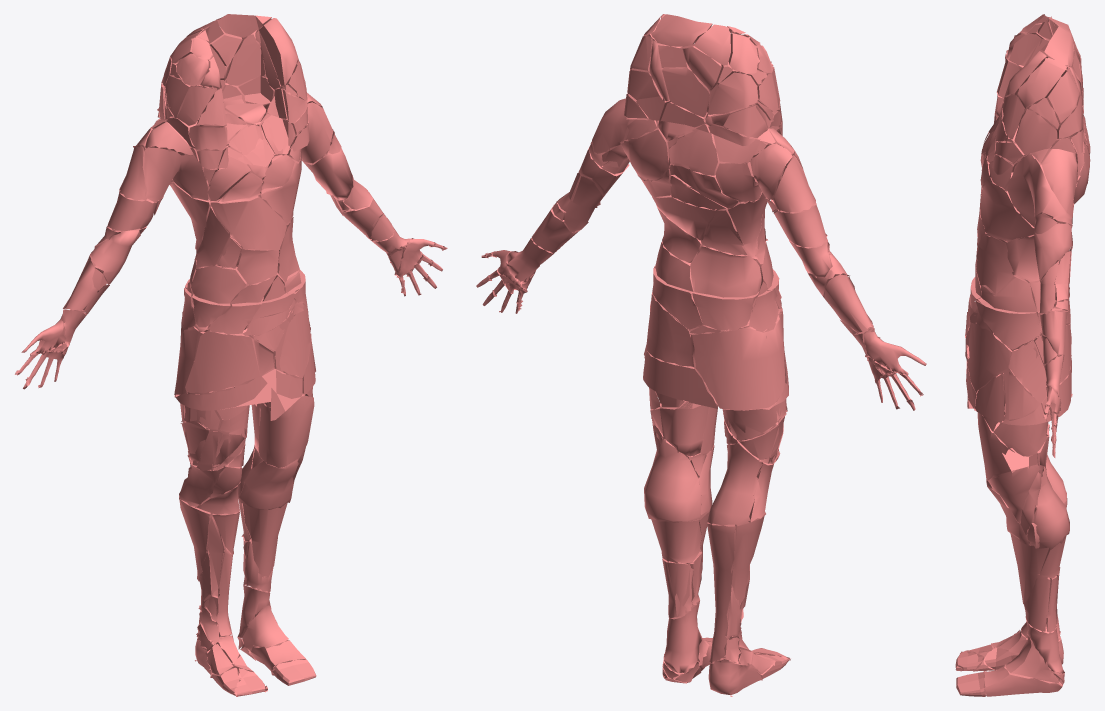
File: HeadlessStatue_Cracked.FBX
3 views of the same model, side by side, from view 1: azimuth 30°, elevation 25°; view 2: azimuth 150°, elevation 25°; view 3: azimuth 270°, elevation 25° (orthographic). The views are drawn at different scales.
Visible parts, largest first — view 1: HeadlessStatue_Frag001; view 2: HeadlessStatue_Frag001; view 3: HeadlessStatue_Frag001.
Part boxes in pixels (x1,y1,x2,y2): HeadlessStatue_Frag001: (14, 14, 447, 696); HeadlessStatue_Frag001: (476, 14, 926, 696); HeadlessStatue_Frag001: (955, 14, 1090, 696).
Size of the model in its own units: 247 by 352 by 66.22.
